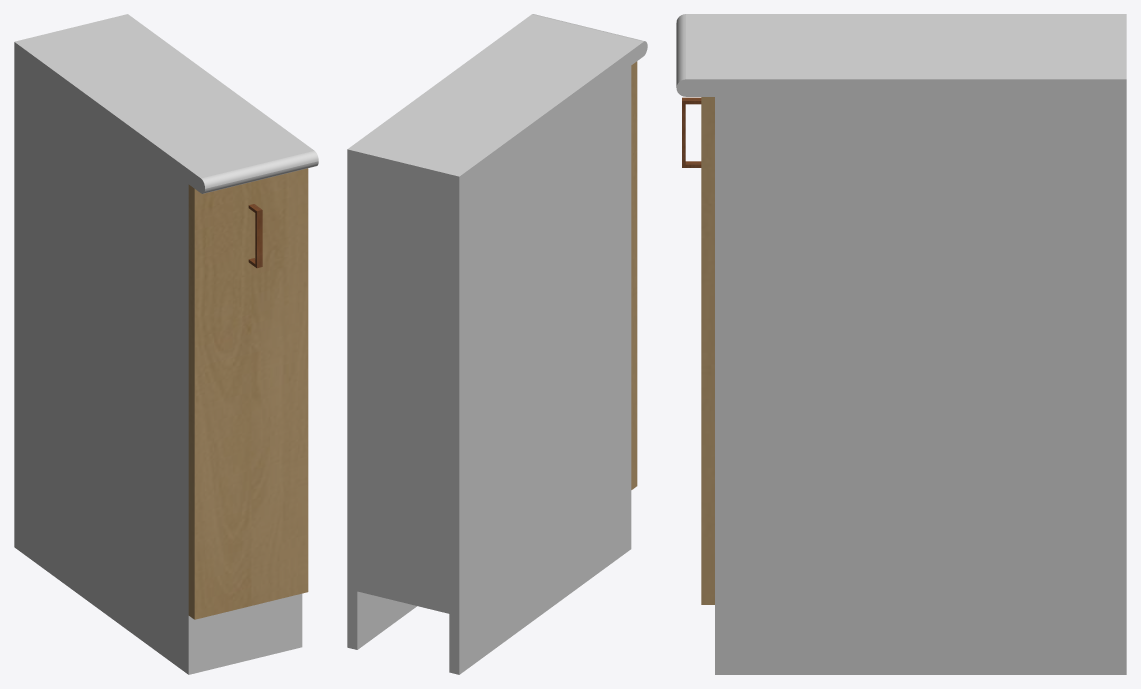
The model's file is pullout-200.glb.
3 renders of one model, left to right at view 1: azimuth 30°, elevation 25°; view 2: azimuth 150°, elevation 25°; view 3: azimuth 270°, elevation 25°, orthographic. The views are drawn at different scales.
Visible parts, largest first — view 1: Mesh_0_group, Mesh_2_group, Mesh_4_group, Mesh_1_group, Mesh_3_group; view 2: Mesh_0_group, Mesh_4_group, Mesh_1_group, Mesh_2_group; view 3: Mesh_0_group, Mesh_4_group, Mesh_1_group, Mesh_2_group.
Boxes of the visible parts, <box> form: Mesh_0_group: <box>14,57,188,614</box>; Mesh_2_group: <box>188,168,308,619</box>; Mesh_4_group: <box>14,14,318,193</box>; Mesh_1_group: <box>14,488,302,674</box>; Mesh_3_group: <box>248,204,262,268</box>; Mesh_0_group: <box>347,66,631,616</box>; Mesh_4_group: <box>347,14,647,191</box>; Mesh_1_group: <box>347,491,631,674</box>; Mesh_2_group: <box>631,61,637,489</box>; Mesh_0_group: <box>715,97,1126,604</box>; Mesh_4_group: <box>676,14,1126,96</box>; Mesh_1_group: <box>715,605,1126,674</box>; Mesh_2_group: <box>701,97,714,604</box>.
Bounding box in the file's own units: 0.2 × 0.85 × 0.582.
3 materials, 2 textured.
